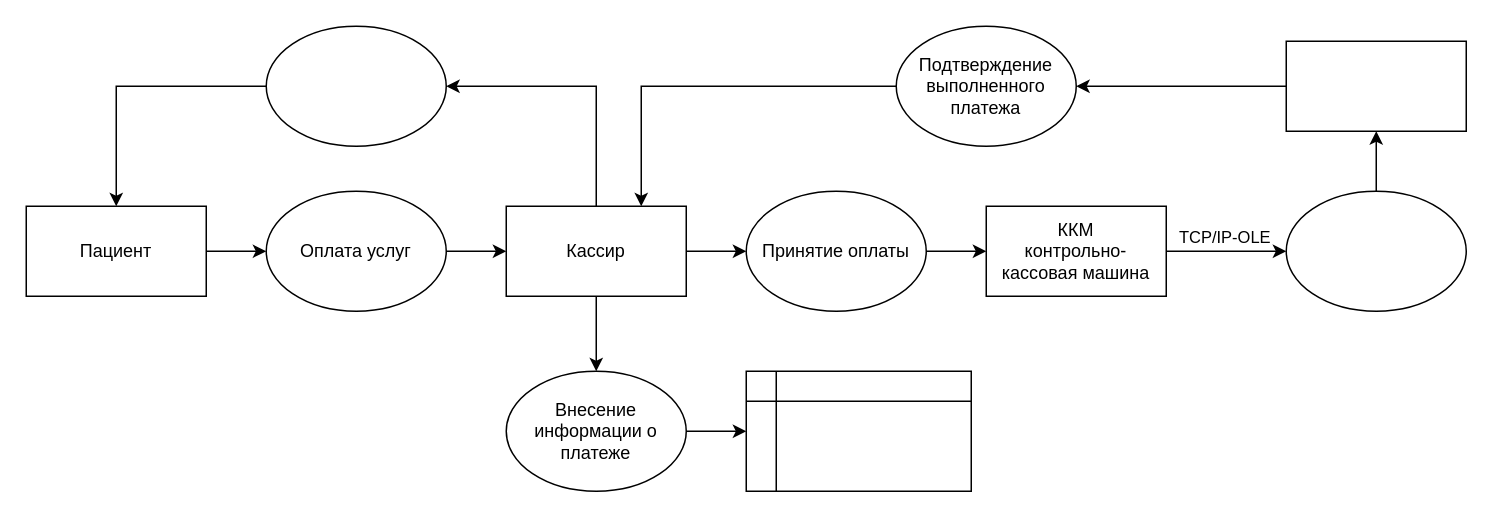
This 1493x518 diagram has some shape labels left out. The centre of each missing label's shape, as x and y in pixels:
"1С Бухгалтерия (файловый режим)" goes at pixel 1375 85.
"Выдача чека" goes at pixel 355 85.
"Журнал платежей Excel" goes at pixel 858 430.
"Передача информации о принятии оплаты" goes at pixel 1375 250.
